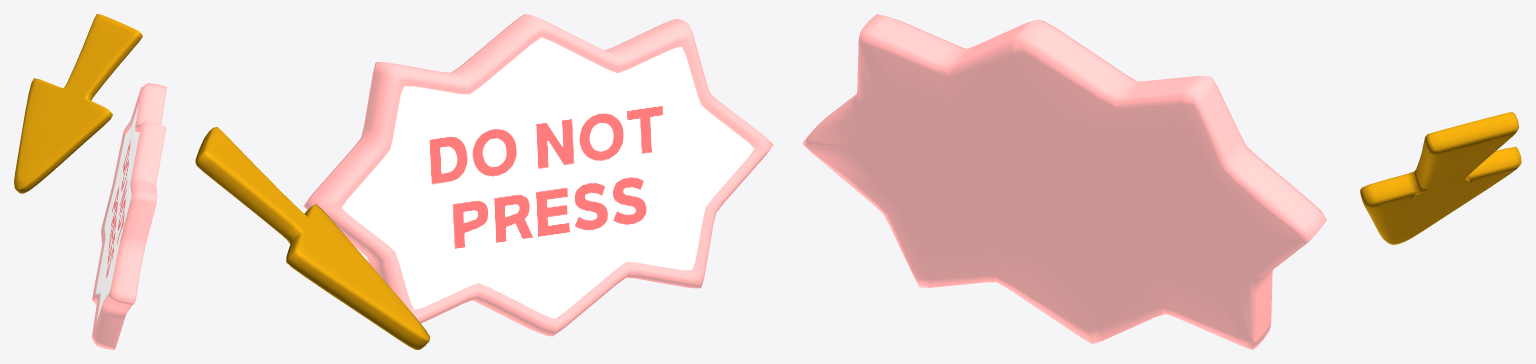
The model's file is gameLand-battleSign.glb.
3 renders of one model, left to right at view 1: azimuth 30°, elevation 25°; view 2: azimuth 150°, elevation 25°; view 3: azimuth 270°, elevation 25°, orthographic. The views are drawn at different scales.
Visible parts, largest first — view 1: game_battle_machine_sign02, game_battle_machine_sign01; view 2: game_battle_machine_sign02, game_battle_machine_sign01; view 3: game_battle_machine_sign02, game_battle_machine_sign01.
Boxes of the visible parts, box(x1,y1,x2,y2) form: game_battle_machine_sign02: box(91, 83, 166, 349); game_battle_machine_sign01: box(14, 14, 142, 193); game_battle_machine_sign02: box(303, 14, 773, 336); game_battle_machine_sign01: box(195, 127, 430, 349); game_battle_machine_sign02: box(802, 14, 1326, 349); game_battle_machine_sign01: box(1360, 112, 1521, 244).
Bounding box in the file's own units: 73.96 × 67.16 × 129.
2 materials, 1 textured.
